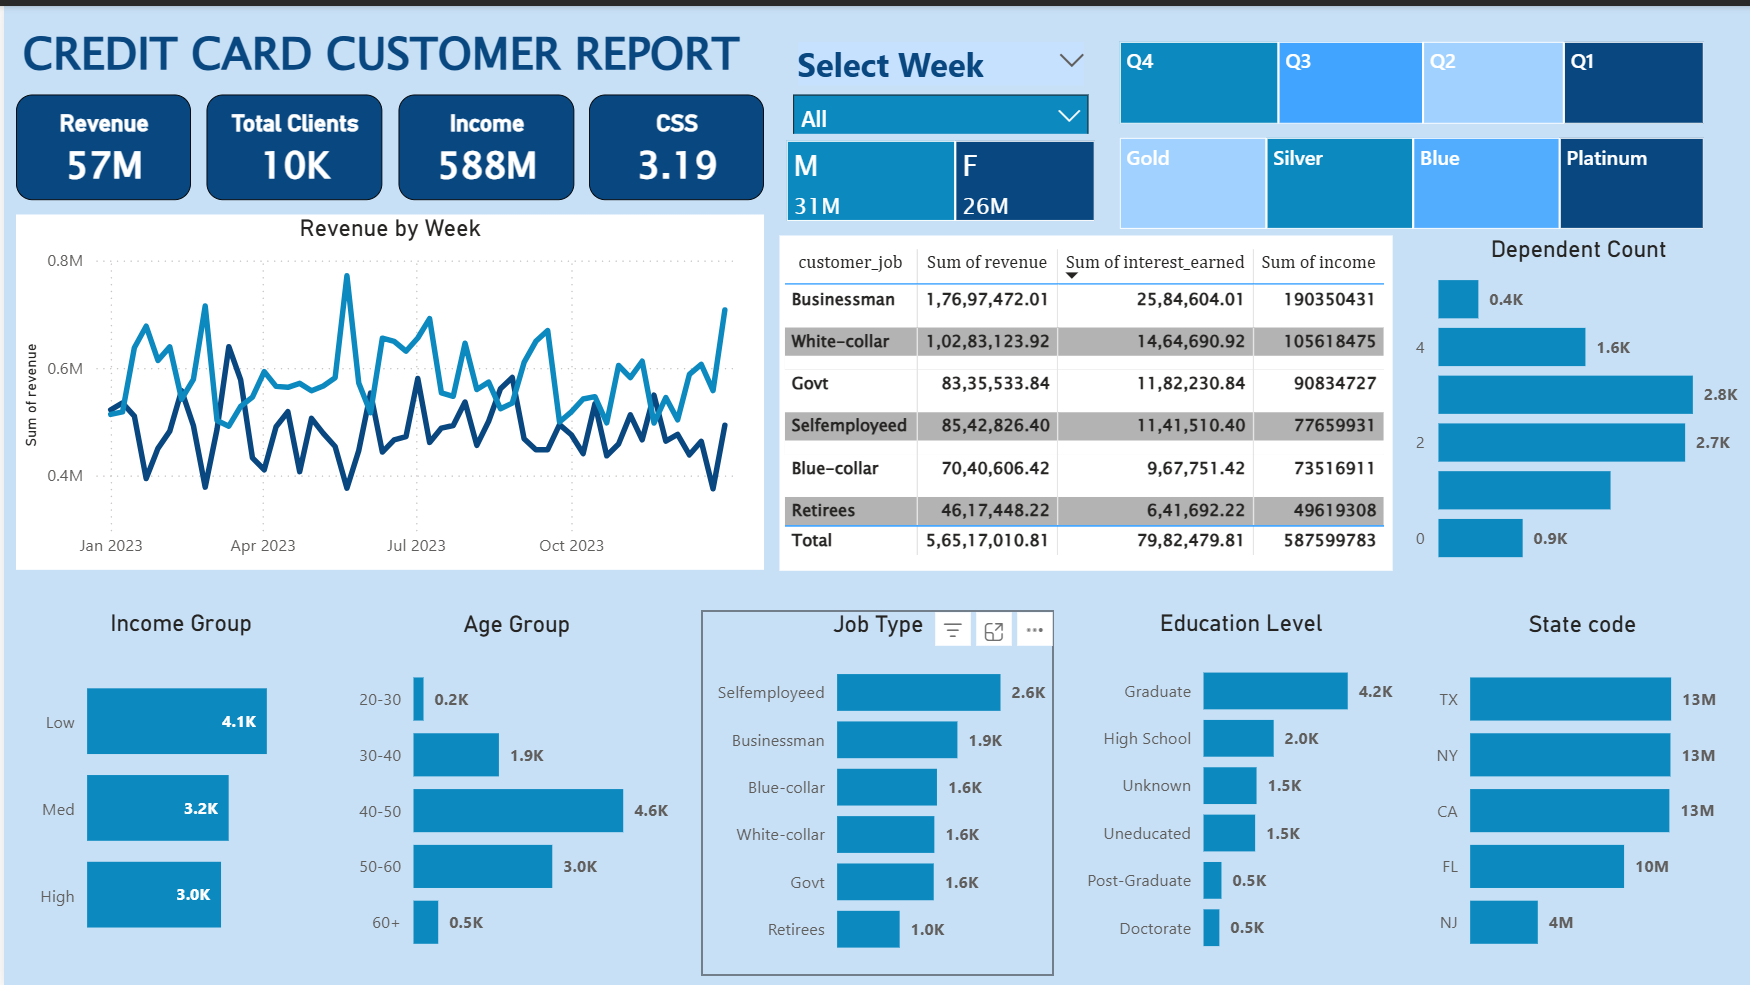

The dashboard page shown, as its layout file describes it:
{"tool":"powerbi","page":{"name":"cc_customer","canvas":[1280,720],"ordinal":0},"visuals":[{"type":"textbox","box":[8.8,5,547.5,60],"z":0},{"type":"tableEx","fields":{"Values":["public cust_detail.customer_job","Sum(public cc_detail.revenue)","Sum(public cc_detail.interest_earned)","Sum(public cust_detail.income)"]},"box":[567.5,167.5,448.8,245],"z":1000},{"type":"group","id":"g1","title":"Group 1","box":[8.8,65,547.5,77.5],"z":2000},{"type":"treemap","fields":{"Values":["Avg(public cc_detail.client_num)"],"Group":["public cc_detail.card_category"]},"box":[810.8,91,437.5,77],"z":2000,"group":"g2"},{"type":"treemap","fields":{"Values":["Avg(public cc_detail.client_num)"],"Group":["public cc_detail.qtr"]},"box":[810.8,20.5,437.5,70.5],"z":3000,"group":"g2"},{"type":"lineChart","title":"Revenue by Week","fields":{"Y":["Sum(public cc_detail.revenue)"],"Series":["public cust_detail.gender"],"Category":["public cc_detail.week_start_date.Variation.Date Hierarchy.Year","public cc_detail.week_start_date.Variation.Date Hierarchy.Month","public cc_detail.week_start_date.Variation.Date Hierarchy.Day"]},"box":[8.8,152.5,547.5,260],"z":3000},{"type":"barChart","title":"Income Group","fields":{"Category":["public cust_detail.IncomeGroup"],"Y":["CountNonNull(public cust_detail.client_num)"]},"box":[17.5,441.2,223.8,266.2],"z":4000},{"type":"treemap","fields":{"Group":["public cust_detail.gender"],"Values":["Sum(public cc_detail.revenue)"]},"box":[567.6,92.5,235.7,69.2],"z":5000,"group":"g3"},{"type":"barChart","title":"Age Group","fields":{"Category":["public cust_detail.AgeGroup"],"Y":["CountNonNull(public cust_detail.client_num)"]},"box":[251.2,442.5,247.5,266.2],"z":5000},{"type":"barChart","title":"Job Type","fields":{"Y":["CountNonNull(public cust_detail.client_num)"],"Category":["public cust_detail.customer_job"]},"box":[510,442.5,258.8,266.2],"z":6000},{"type":"barChart","title":"Education Level","fields":{"Y":["CountNonNull(public cust_detail.client_num)"],"Category":["public cust_detail.education_level"]},"box":[781.2,441.2,247.5,266.2],"z":7000},{"type":"barChart","title":"State code","fields":{"Y":["Sum(public cc_detail.revenue)"],"Category":["public cust_detail.state_cd"]},"box":[1040,442.5,228.8,266.2],"z":8000},{"type":"card","title":"Revenue","fields":{"Values":["Sum(public cc_detail.revenue)"]},"box":[8.8,65,127.8,77],"z":9000,"group":"g1"},{"type":"barChart","title":"Dependent Count","fields":{"Y":["CountNonNull(public cust_detail.client_num)"],"Category":["public cust_detail.dependent_count"]},"box":[1027,167.6,249.7,248.6],"z":9000},{"type":"group","id":"g2","title":"Group 2","box":[810.8,20.5,437.8,147],"z":10000},{"type":"card","title":"Total Clients","fields":{"Values":["CountNonNull(public cc_detail.client_num)"]},"box":[148.6,65,128.6,77],"z":10000,"group":"g1"},{"type":"group","id":"g3","title":"Group 3","box":[567.6,20.5,235.7,141.6],"z":11000},{"type":"card","title":"Income","fields":{"Values":["Sum(public cust_detail.income)"]},"box":[288.5,65,128.6,77.5],"z":11000,"group":"g1"},{"type":"slicer","fields":{"Values":["public cc_detail.week_start_date"]},"box":[567.6,20.5,235.7,72.4],"z":12000,"group":"g3"},{"type":"card","title":"CSS","fields":{"Values":["Avg(public cust_detail.cust_satisfaction_score)"]},"box":[428.5,65,127.8,77],"z":12000,"group":"g1"}]}

Visuals, with their boxes in screenshot pixels (x1, y1, x2, y2), scaled from the page's 1280x720 canvas onto the 1750x985 screenshot:
textbox: x1=12, y1=7, x2=761, y2=89
tableEx - public cust_detail.customer_job x Sum(public cc_detail.revenue): x1=776, y1=229, x2=1389, y2=564
"Group 1" group: x1=12, y1=89, x2=761, y2=195
treemap - Avg(public cc_detail.client_num) x public cc_detail.card_category: x1=1109, y1=124, x2=1707, y2=230
treemap - Avg(public cc_detail.client_num) x public cc_detail.qtr: x1=1109, y1=28, x2=1707, y2=124
"Revenue by Week" lineChart: x1=12, y1=209, x2=761, y2=564
"Income Group" barChart: x1=24, y1=604, x2=330, y2=968
treemap - public cust_detail.gender x Sum(public cc_detail.revenue): x1=776, y1=127, x2=1098, y2=221
"Age Group" barChart: x1=343, y1=605, x2=682, y2=970
"Job Type" barChart: x1=697, y1=605, x2=1051, y2=970
"Education Level" barChart: x1=1068, y1=604, x2=1406, y2=968
"State code" barChart: x1=1422, y1=605, x2=1735, y2=970
"Revenue" card: x1=12, y1=89, x2=187, y2=194
"Dependent Count" barChart: x1=1404, y1=229, x2=1745, y2=569
"Group 2" group: x1=1109, y1=28, x2=1707, y2=229
"Total Clients" card: x1=203, y1=89, x2=379, y2=194
"Group 3" group: x1=776, y1=28, x2=1098, y2=222
"Income" card: x1=394, y1=89, x2=570, y2=195
slicer - public cc_detail.week_start_date: x1=776, y1=28, x2=1098, y2=127
"CSS" card: x1=586, y1=89, x2=761, y2=194
